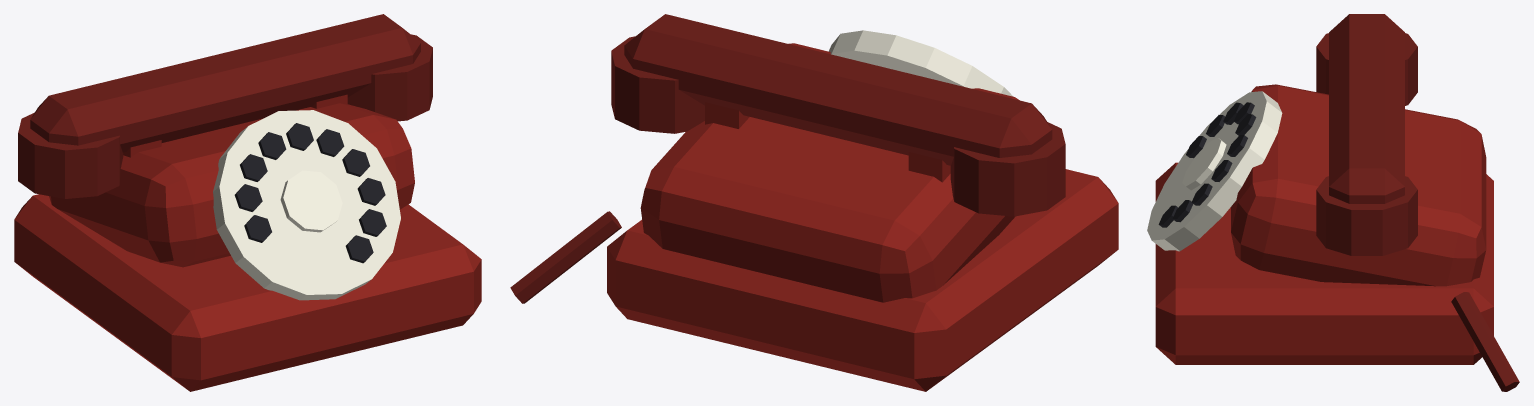
Rendered from install.telephone.glb.
The picture shows the model from 3 angles, left to right: view 1: azimuth 30°, elevation 25°; view 2: azimuth 150°, elevation 25°; view 3: azimuth 270°, elevation 25°; orthographic projection. The views are drawn at different scales.
Parts seen in each view (by area): view 1: base, handset, dial-plate, body, cup-1, cup1, dial-centre, hole0, hole1, hole9, hole3, hole8 (+5 smaller); view 2: base, body, handset, cup-1, cup1, dial-plate, cord, prong-1, prong1; view 3: base, body, handset, dial-plate, cup1, cord, cup-1, dial-centre.
Boxes of the visible parts, bbox=[...] form: base: bbox=[14, 194, 481, 391]; handset: bbox=[30, 14, 420, 152]; dial-plate: bbox=[213, 110, 400, 300]; body: bbox=[49, 103, 414, 267]; cup-1: bbox=[18, 112, 123, 198]; cup1: bbox=[347, 34, 432, 121]; dial-centre: bbox=[280, 170, 342, 232]; hole0: bbox=[345, 235, 373, 263]; hole1: bbox=[359, 209, 386, 236]; hole9: bbox=[244, 215, 271, 242]; hole3: bbox=[342, 149, 369, 176]; hole8: bbox=[234, 184, 262, 211]; base: bbox=[607, 169, 1118, 391]; body: bbox=[640, 43, 1019, 302]; handset: bbox=[624, 14, 1052, 165]; cup-1: bbox=[950, 122, 1065, 216]; cup1: bbox=[611, 36, 704, 133]; dial-plate: bbox=[828, 30, 1012, 96]; cord: bbox=[510, 211, 621, 303]; prong-1: bbox=[908, 152, 950, 182]; prong1: bbox=[705, 102, 749, 128]; base: bbox=[1155, 162, 1493, 364]; body: bbox=[1231, 84, 1486, 286]; handset: bbox=[1329, 14, 1404, 203]; dial-plate: bbox=[1147, 91, 1282, 251]; cup1: bbox=[1316, 176, 1417, 255]; cord: bbox=[1451, 292, 1519, 391]; cup-1: bbox=[1316, 33, 1417, 105]; dial-centre: bbox=[1182, 137, 1226, 190].
Bounding box in the file's own units: 0.2731 × 0.1375 × 0.2202.
